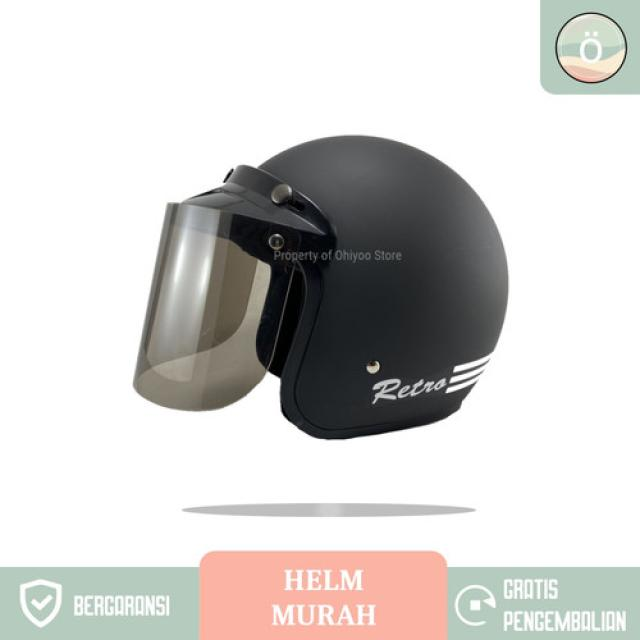Helm: (124, 132, 524, 444)
